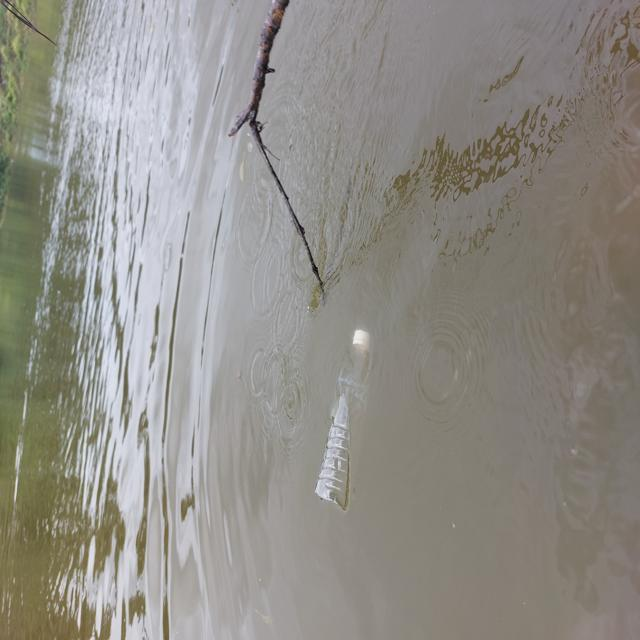waterbottle: (306, 314, 382, 536)
